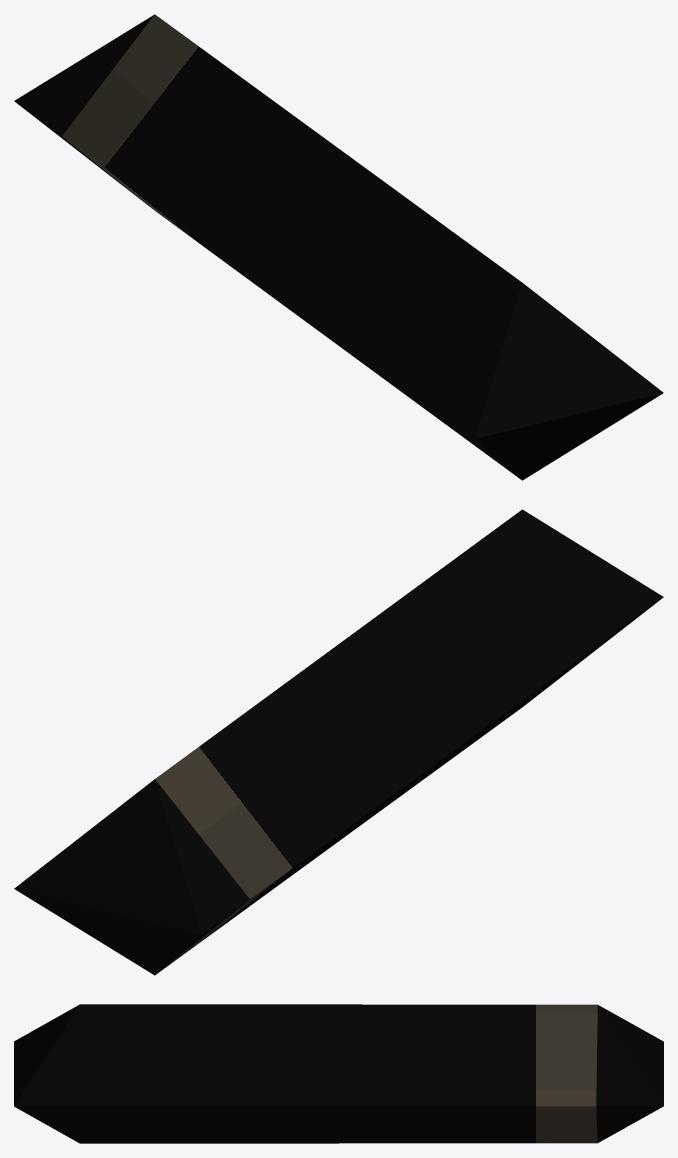
The model's file is oak_thin_trunk_horizontal.obj.
3 renders of one model, top to bottom at view 1: azimuth 30°, elevation 25°; view 2: azimuth 150°, elevation 25°; view 3: azimuth 270°, elevation 25°, orthographic. The views are drawn at different scales.
Parts seen in each view (by area): view 1: cube_selection_selection; view 2: cube_selection_selection; view 3: cube_selection_selection.
Part boxes in pixels (box(x1,y1,x2,y2)): cube_selection_selection: box(14, 14, 663, 480); cube_selection_selection: box(14, 509, 663, 975); cube_selection_selection: box(14, 1004, 663, 1143).
Bounding box in the file's own units: 0.3107 × 0.3104 × 1.31.
